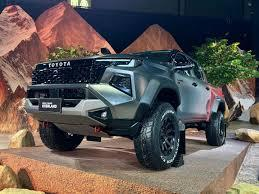toyota: (44, 62, 72, 68)
